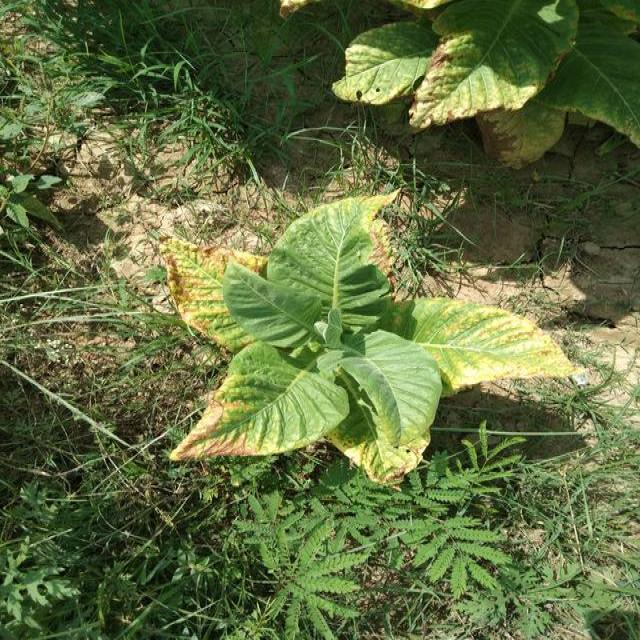crop: (162, 191, 574, 481), (340, 2, 638, 138)
